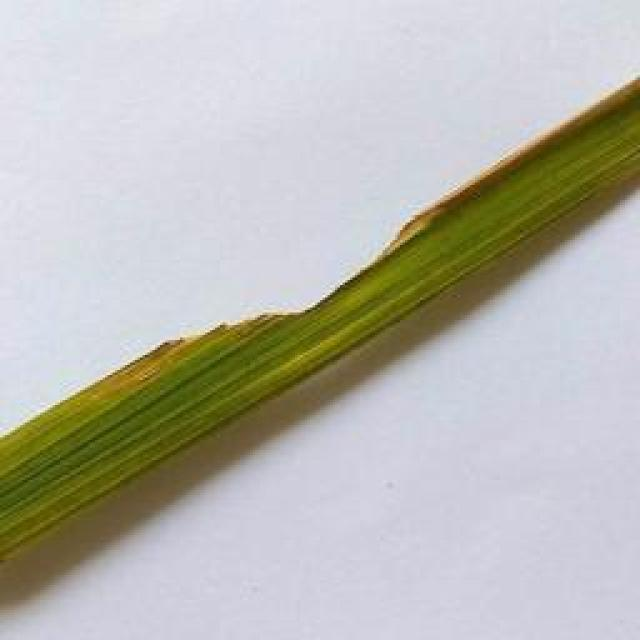Bacterial_Blight: (393, 69, 640, 251), (86, 312, 243, 410)
